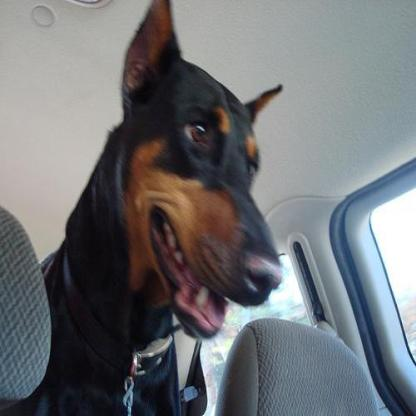Doberman: (0, 0, 284, 414)
